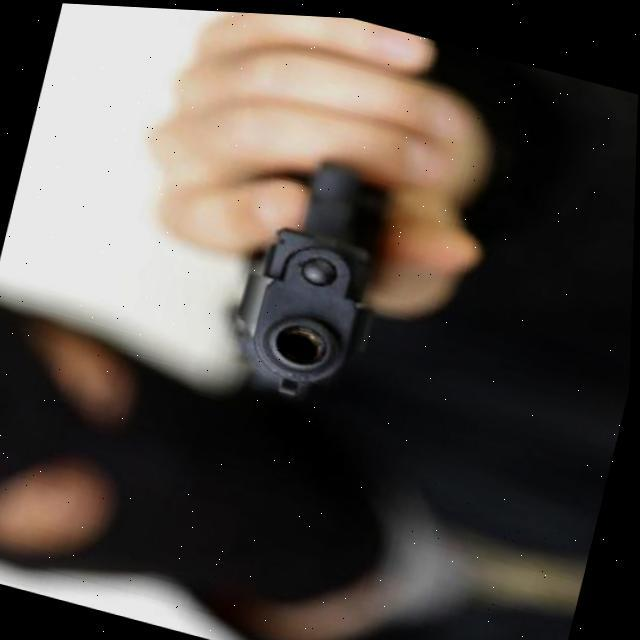gun: (201, 133, 424, 423)
